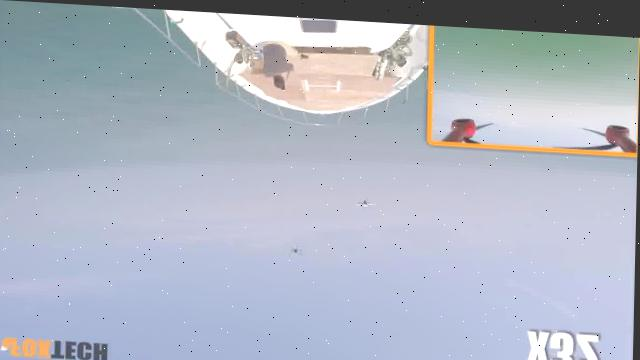drone: (281, 235, 315, 257), (351, 189, 378, 211)
